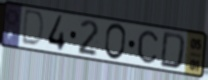2: (76, 19, 101, 58)
4: (47, 13, 67, 53)
C: (137, 29, 160, 65)
D: (158, 31, 187, 71), (20, 8, 46, 49)
O: (103, 22, 128, 62)
